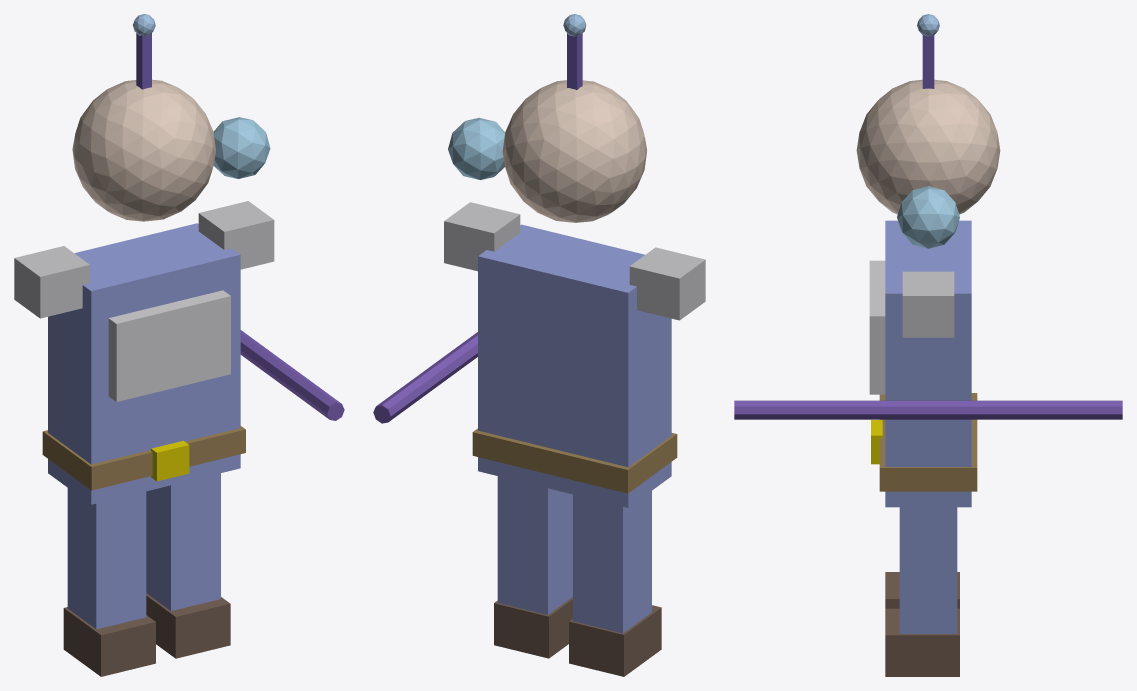
The model's file is mage_f.glb.
The picture shows the model from 3 angles, left to right: view 1: azimuth 30°, elevation 25°; view 2: azimuth 150°, elevation 25°; view 3: azimuth 270°, elevation 25°; orthographic projection.
Parts seen in each view (by area): view 1: geometry_0; view 2: geometry_0; view 3: geometry_0.
Part boxes in pixels (<box>): geometry_0: <box>14,14,344,676</box>; geometry_0: <box>373,14,705,676</box>; geometry_0: <box>734,14,1122,676</box>.
Bounding box in the file's own units: 0.96 × 2.42 × 1.35.
